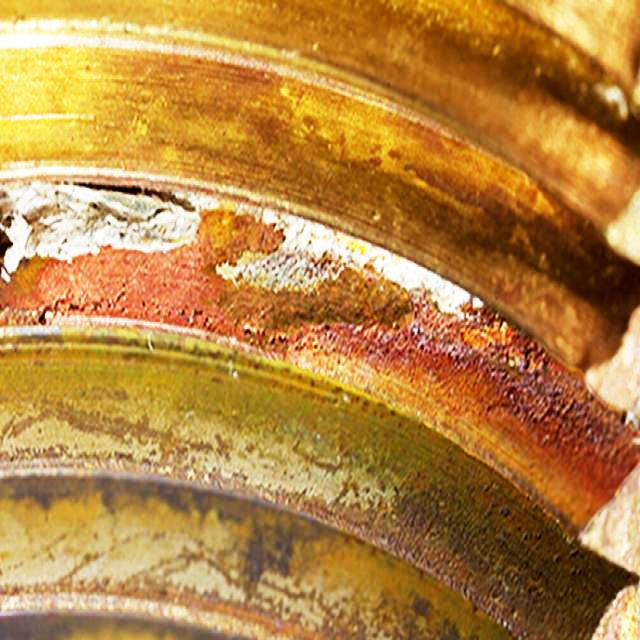Corrosion: (0, 201, 639, 532), (0, 447, 579, 640), (0, 563, 365, 637)
